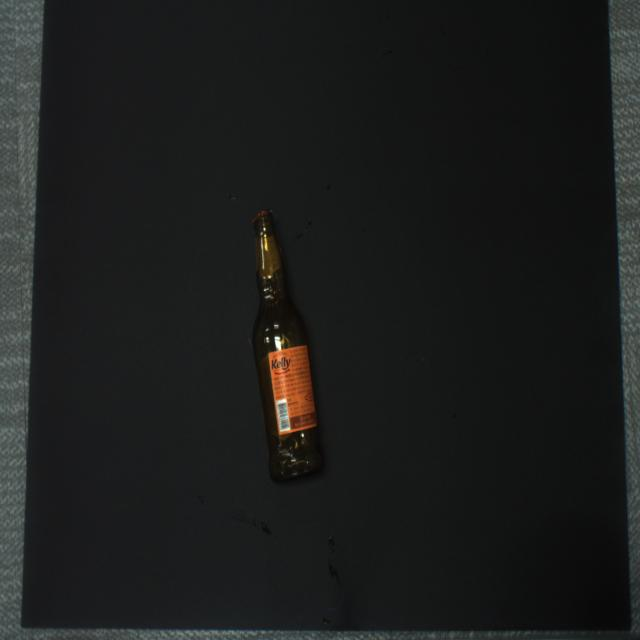beer-bottle: (252, 211, 324, 482)
